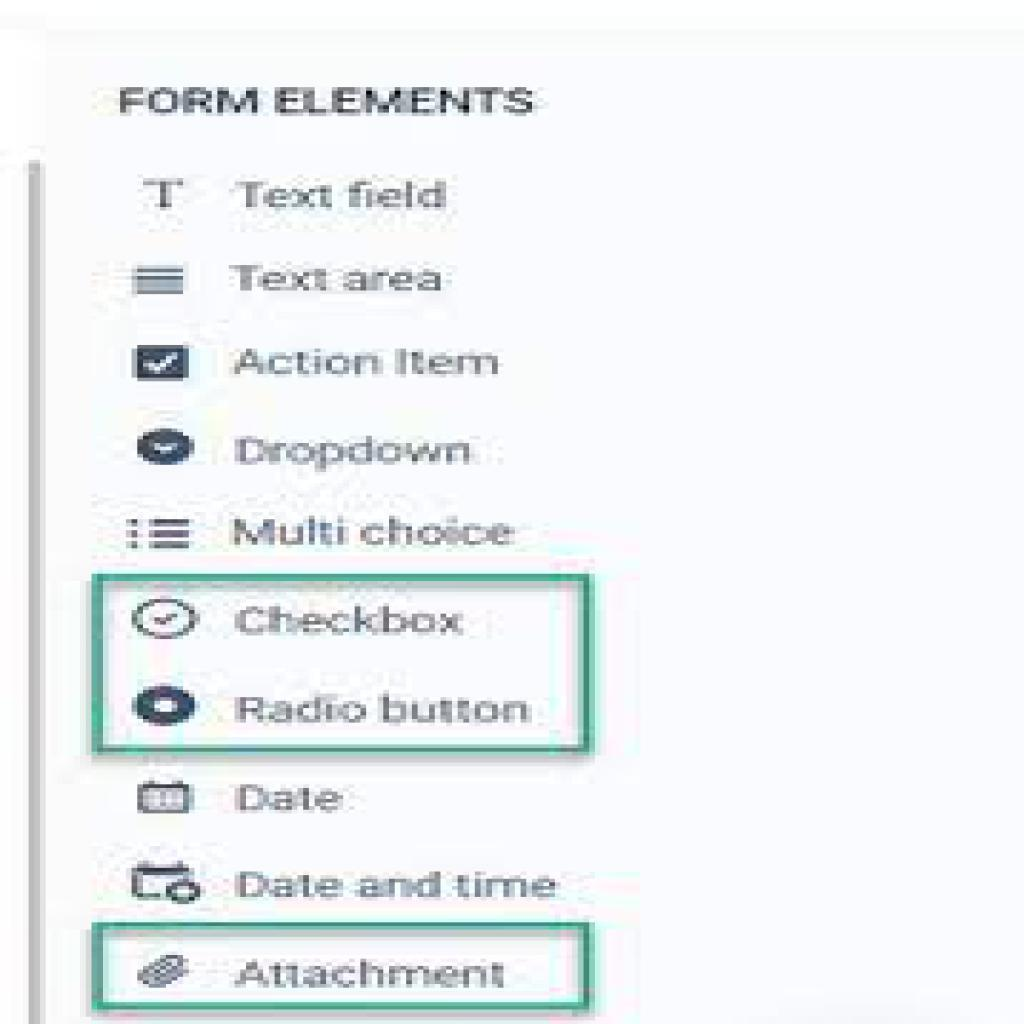checkbox: (117, 597, 212, 648), (135, 343, 188, 383)
icon: (132, 852, 211, 913), (134, 773, 205, 828), (131, 948, 195, 993), (129, 261, 192, 306), (135, 175, 190, 217)
radio: (126, 680, 208, 731)
